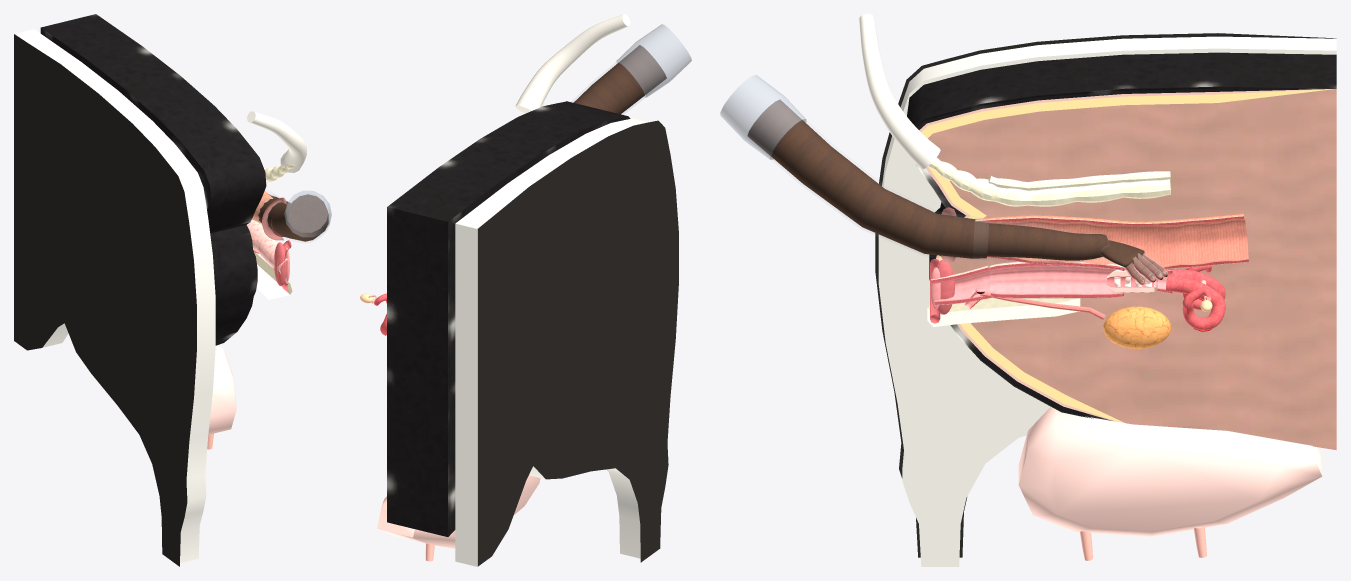
Rendered from tract-CYznx4ew.glb.
3 views of the same model, side by side, from view 1: azimuth 30°, elevation 25°; view 2: azimuth 150°, elevation 25°; view 3: azimuth 270°, elevation 25° (orthographic). The views are drawn at different scales.
Parts seen in each view (by area): view 1: TR_body_far, TR_skin_section, HAND_sleeve, TR_udder, TR_tail_section, TR_pelvis, TR_vulva, TR_vestibule; view 2: TR_body_far, TR_skin_section, HAND_sleeve, TR_tail_section, TR_udder; view 3: TR_skin_section, TR_body_far, TR_udder, HAND_sleeve, TR_rectum, TR_sacrum, TR_vagina, TR_tail_section, HAND_forearm, TR_pelvis, TR_bladder, TR_horn_right (+5 smaller).
Part boxes in pixels (<box>): TR_body_far: <box>14,29,215,566</box>; TR_skin_section: <box>40,14,266,345</box>; HAND_sleeve: <box>258,190,331,241</box>; TR_udder: <box>207,345,236,449</box>; TR_tail_section: <box>247,111,306,172</box>; TR_pelvis: <box>254,252,292,299</box>; TR_vulva: <box>274,242,289,286</box>; TR_vestibule: <box>255,232,290,273</box>; TR_body_far: <box>455,118,678,566</box>; TR_skin_section: <box>387,101,630,536</box>; HAND_sleeve: <box>573,24,691,114</box>; TR_tail_section: <box>515,14,630,113</box>; TR_udder: <box>377,475,540,561</box>; TR_skin_section: <box>907,52,1336,450</box>; TR_body_far: <box>875,33,1336,566</box>; TR_udder: <box>1018,407,1322,560</box>; HAND_sleeve: <box>720,75,988,258</box>; TR_rectum: <box>975,213,1248,269</box>; TR_sacrum: <box>928,157,1170,206</box>; TR_vagina: <box>989,261,1124,298</box>; TR_tail_section: <box>859,14,940,169</box>; HAND_forearm: <box>987,223,1108,260</box>; TR_pelvis: <box>927,297,1080,326</box>; TR_bladder: <box>1103,306,1170,348</box>; TR_horn_right: <box>1166,275,1225,330</box>.
Bounding box in the file's own units: 0.4844 × 1.34 × 1.3.
Materials: 43 (25 with a texture image).
